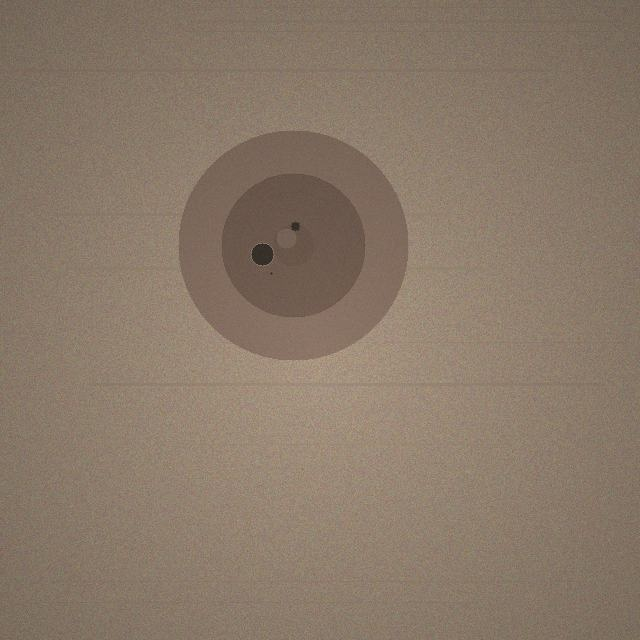shrinkage: (178, 130, 408, 360)
